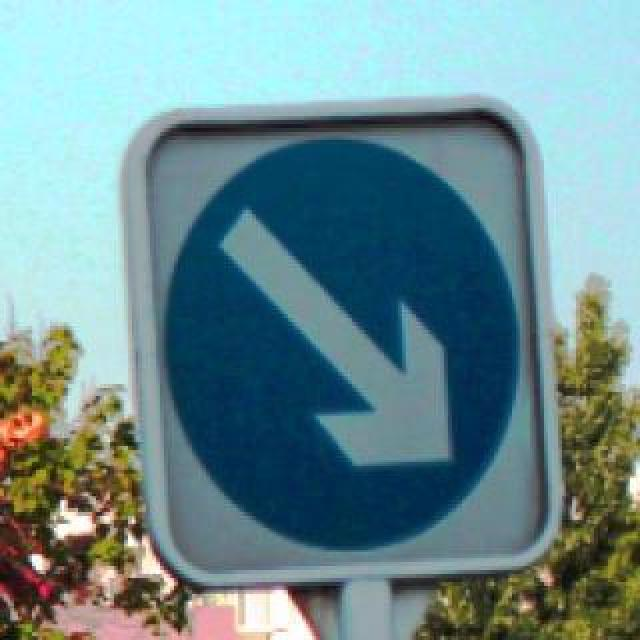keep right: (150, 132, 530, 556)
